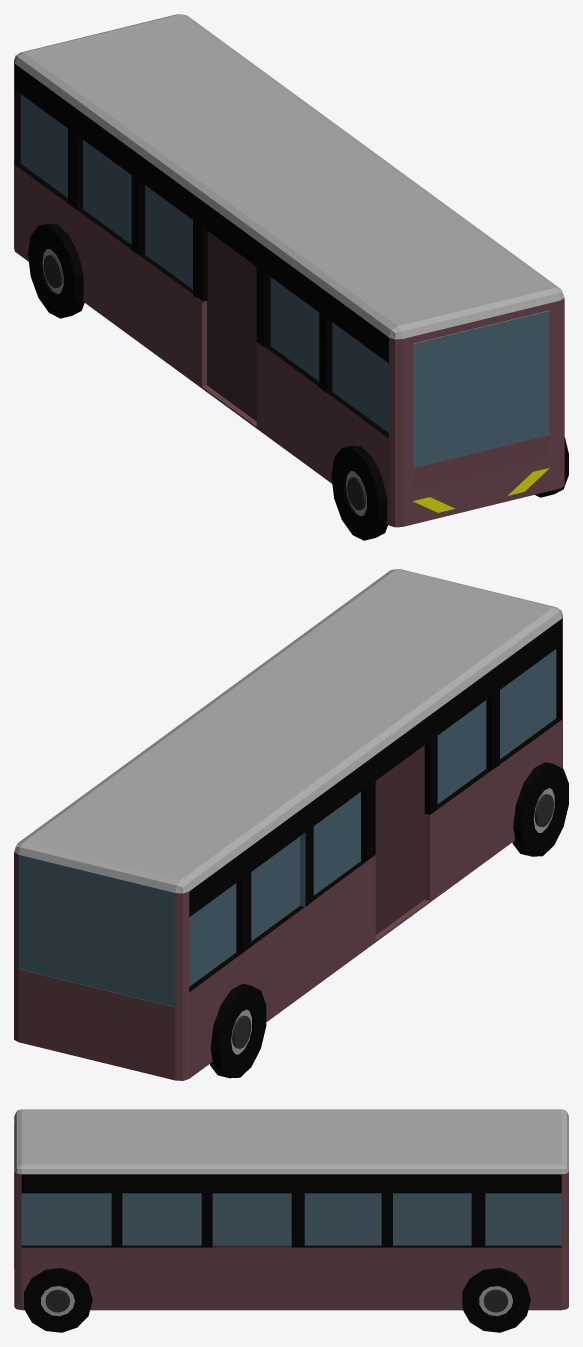
Rendered from Ammanbus1.fbx.
The picture shows the model from 3 angles, top to bottom: view 1: azimuth 30°, elevation 25°; view 2: azimuth 150°, elevation 25°; view 3: azimuth 270°, elevation 25°; orthographic projection. The views are drawn at different scales.
Visible parts, largest first — view 1: pPipeShape1; view 2: pPipeShape1; view 3: pPipeShape1.
Part boxes in pixels (x1=…): pPipeShape1: x1=14, y1=14, x2=568, y2=540; pPipeShape1: x1=14, y1=569, x2=568, y2=1080; pPipeShape1: x1=14, y1=1109, x2=568, y2=1332.
Bounding box in the file's own units: 3.1 × 3.5 × 10.85.
